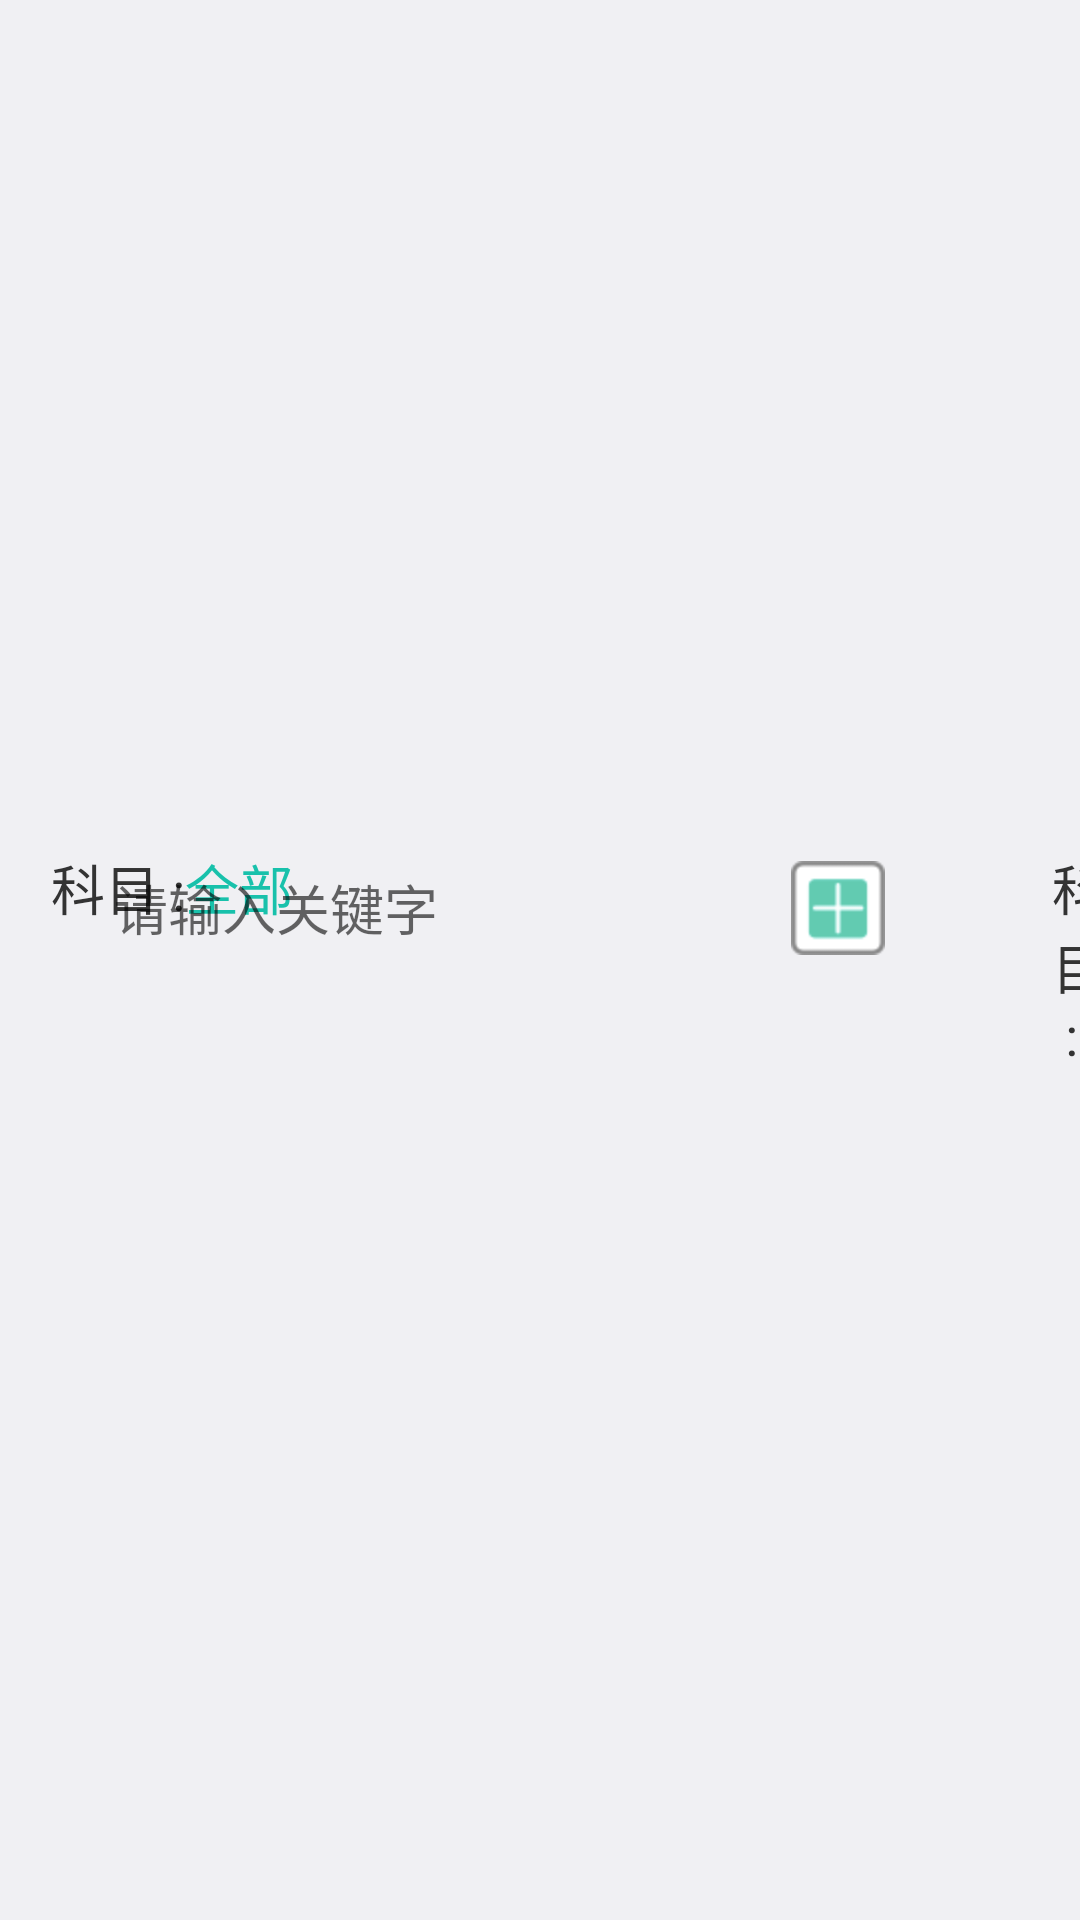

Point at icon controls on the screen. Image size 1080 × 1920, points as (x,y).
add: (838,908)
